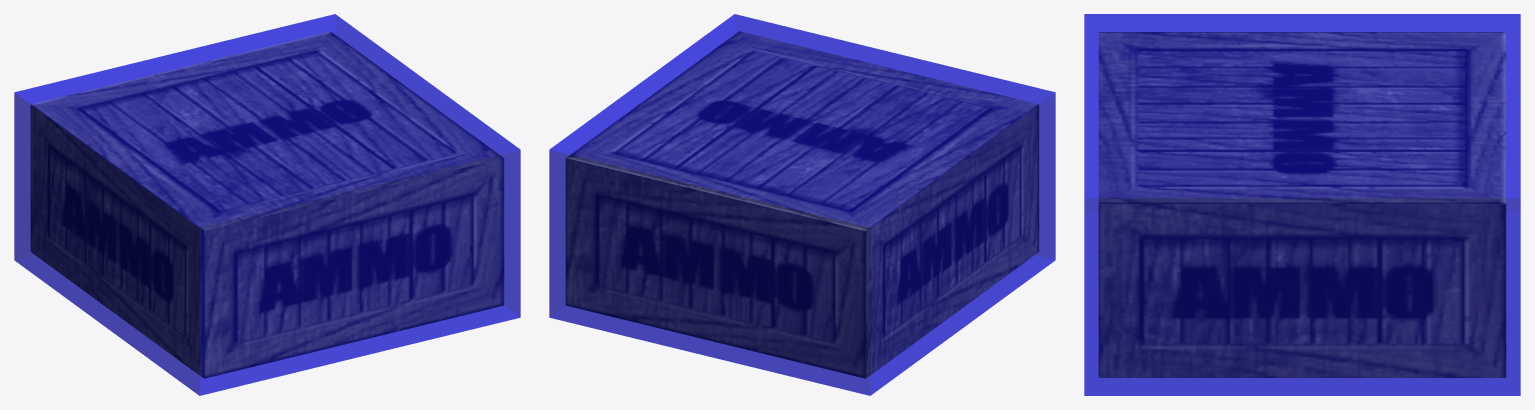
Rendered from PwrAmmo.glb.
3 views of the same model, side by side, from view 1: azimuth 30°, elevation 25°; view 2: azimuth 150°, elevation 25°; view 3: azimuth 270°, elevation 25° (orthographic). The views are drawn at different scales.
Parts seen in each view (by area): view 1: _PwrAmmo; view 2: _PwrAmmo; view 3: _PwrAmmo.
Part boxes in pixels (bbox=[...]): _PwrAmmo: bbox=[14, 14, 520, 395]; _PwrAmmo: bbox=[549, 14, 1055, 395]; _PwrAmmo: bbox=[1084, 14, 1520, 395].
Size of the model in its own units: 0.5 by 0.25 by 0.5.
2 materials, 2 textured.
